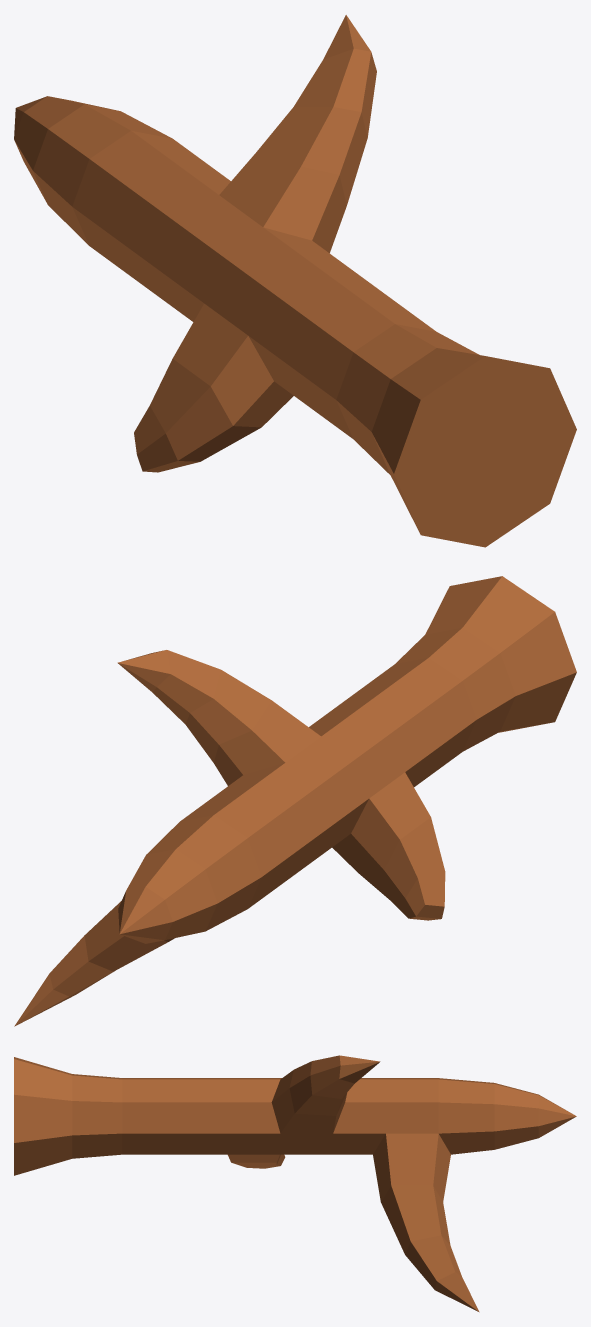
File: tronco002.fbx
3 renders of one model, top to bottom at view 1: azimuth 30°, elevation 25°; view 2: azimuth 150°, elevation 25°; view 3: azimuth 270°, elevation 25°, orthographic. The views are drawn at different scales.
Visible parts, largest first — view 1: Cylinder; view 2: Cylinder; view 3: Cylinder.
Boxes of the visible parts, box(x1,y1,x2,y2) form: Cylinder: box(14, 15, 576, 547); Cylinder: box(14, 576, 576, 1026); Cylinder: box(14, 1055, 576, 1312).
Bounding box in the file's own units: 297 × 322 × 690.
